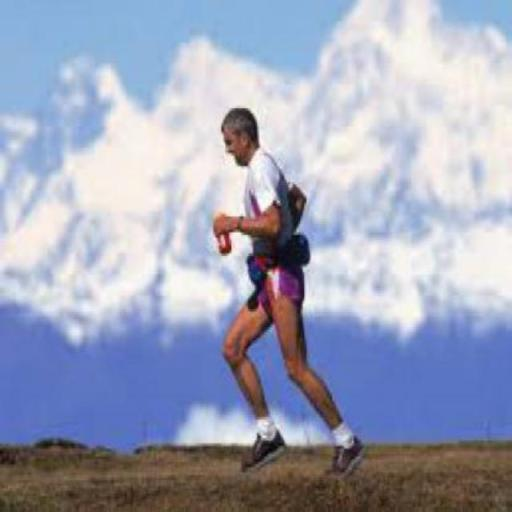Running: (83, 88, 429, 510)
